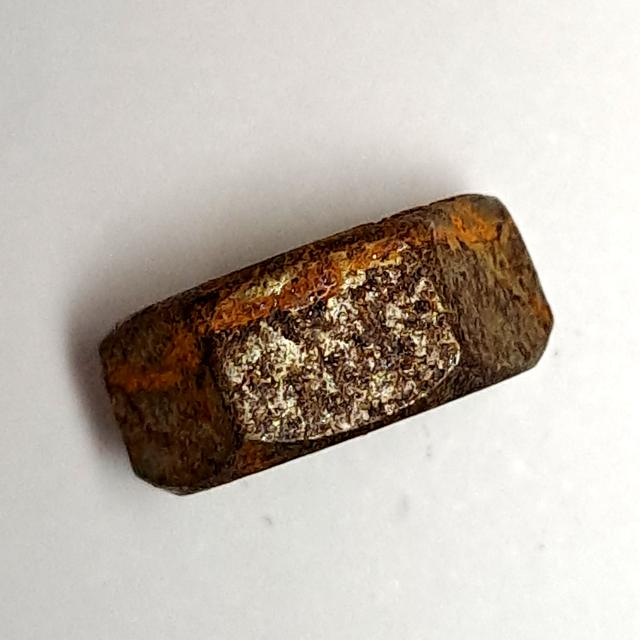Side_Rust: (76, 179, 564, 514)
